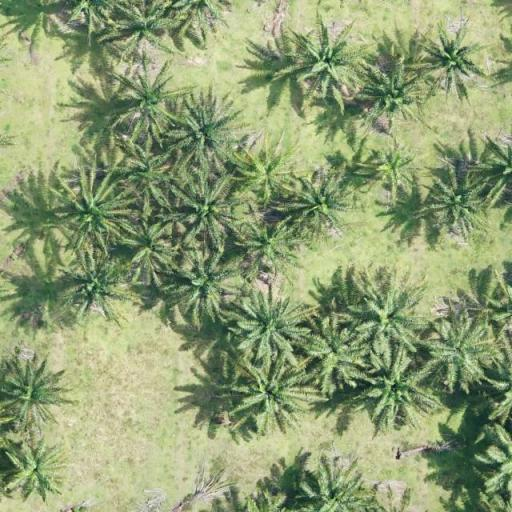Ganoderma: (294, 34, 352, 88), (426, 33, 478, 83), (8, 448, 61, 494), (368, 72, 416, 122), (245, 150, 289, 193), (368, 146, 412, 186)
